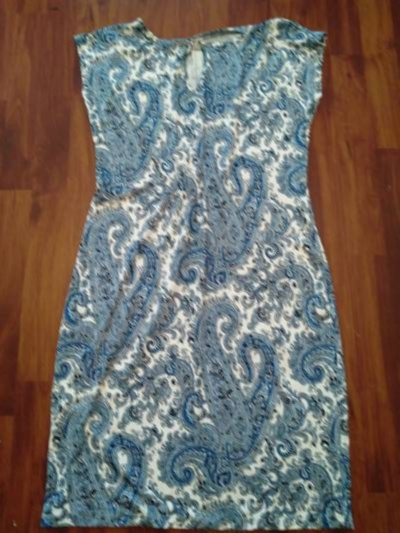Dress: (26, 17, 354, 532)
